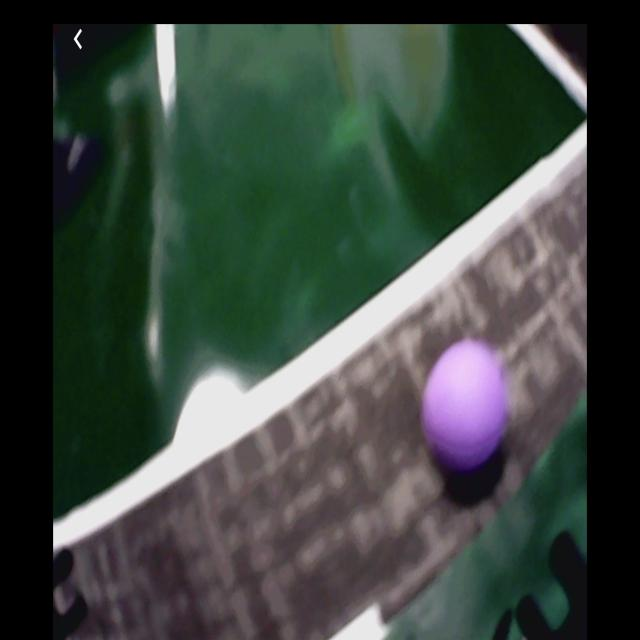ball: (422, 341, 510, 465)
